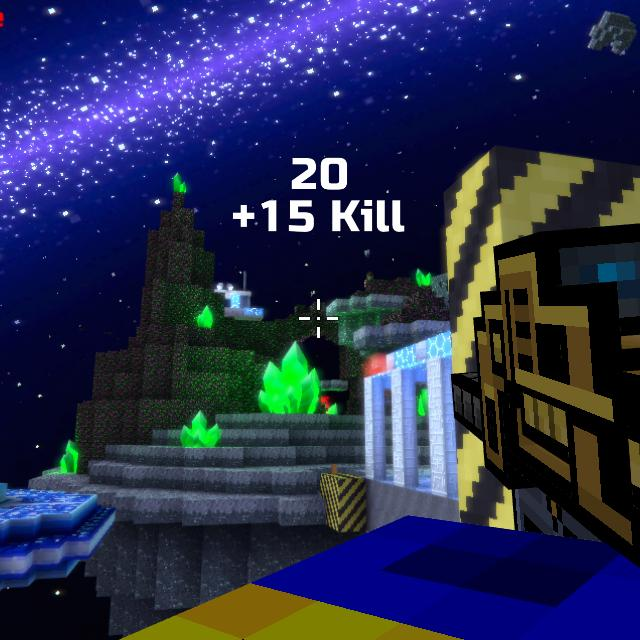Enemy: (321, 399, 328, 410)
